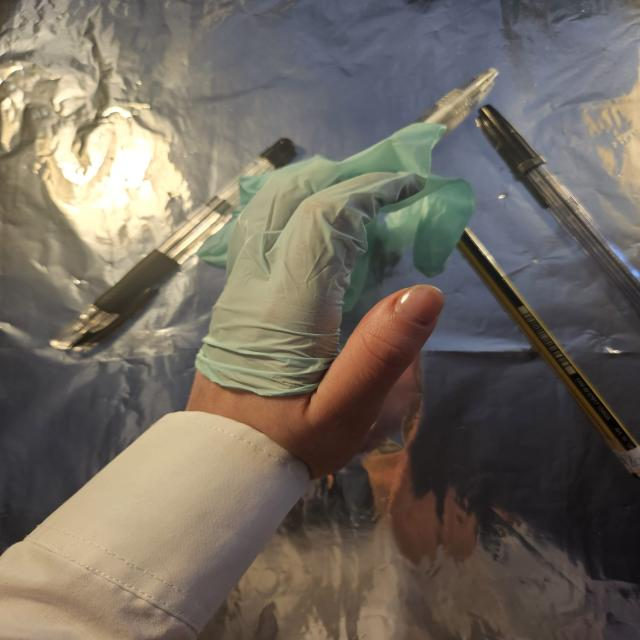glove_partial: (185, 121, 478, 483)
